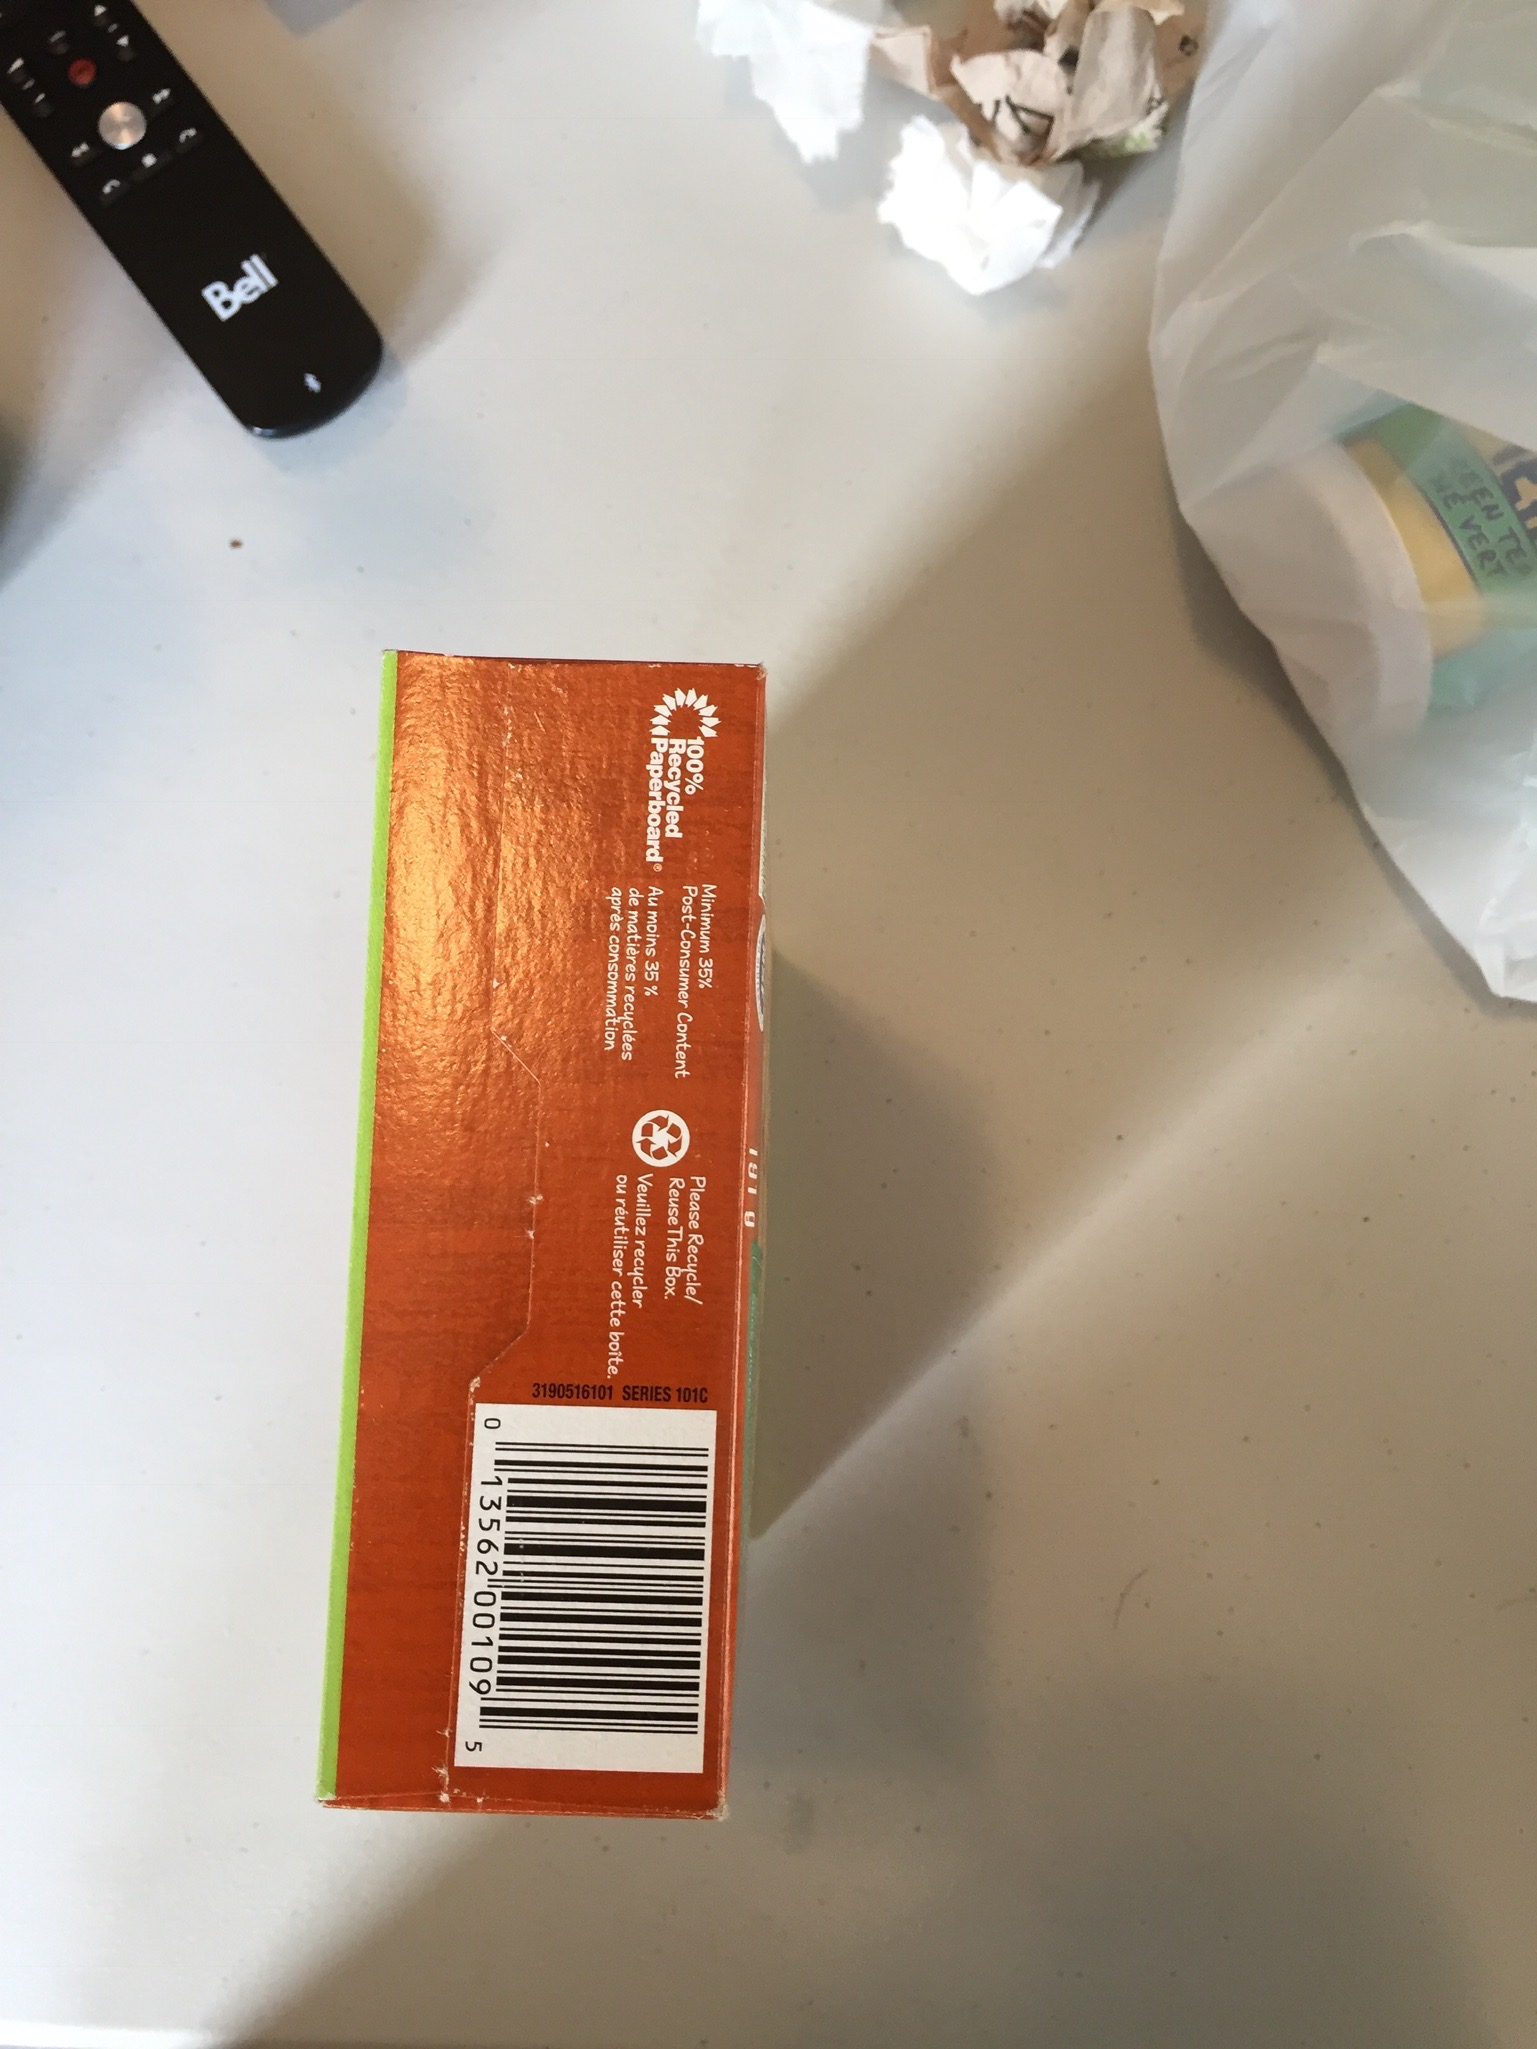annies_snickerdoodles_cinnamon_sugar: (392, 660, 714, 1812)
